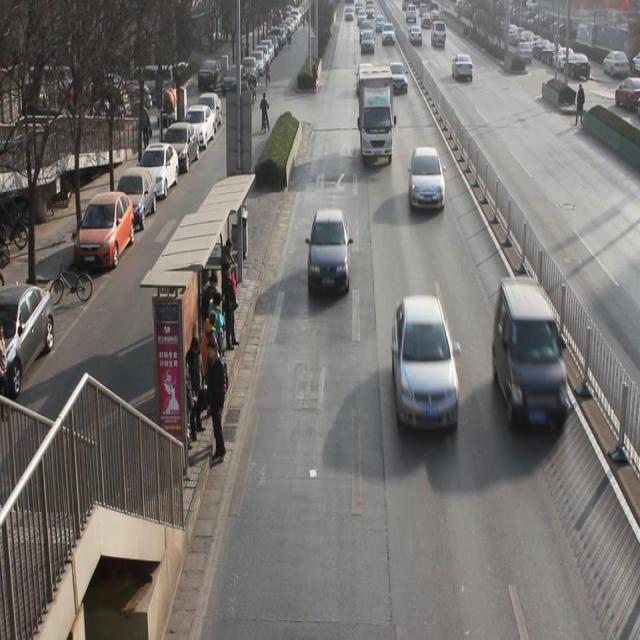bus: (355, 70, 394, 166)
car: (494, 277, 570, 440), (389, 294, 462, 441), (310, 213, 351, 290), (407, 147, 446, 211), (451, 50, 476, 85), (389, 58, 408, 96), (362, 31, 376, 54), (381, 27, 397, 42)
